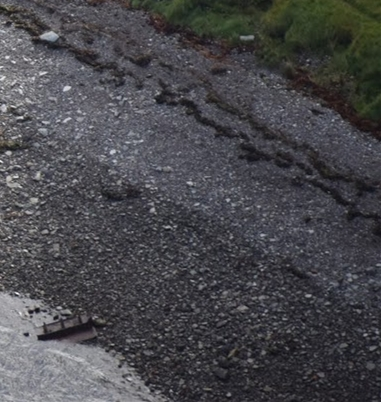cuboid: (28, 305, 109, 348)
white_in_green: (17, 9, 83, 63), (222, 13, 276, 61)
